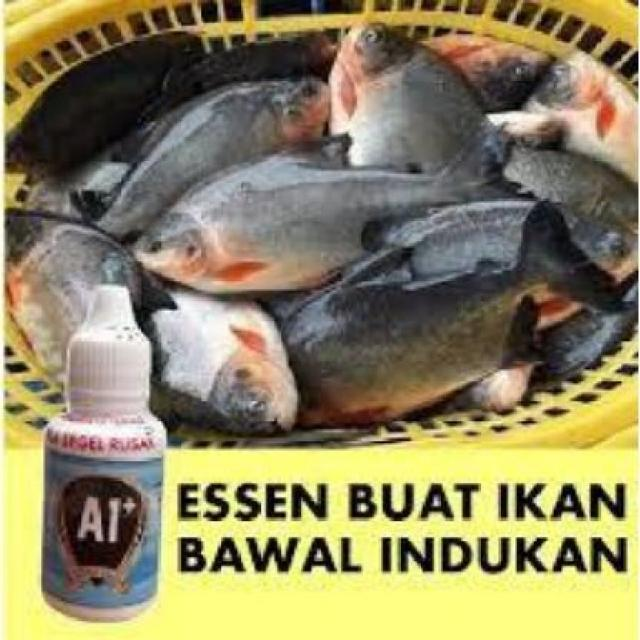ikan-pacu: (295, 204, 563, 423), (138, 148, 434, 292), (90, 63, 324, 226), (322, 14, 488, 171), (146, 280, 302, 436), (3, 189, 139, 325)
